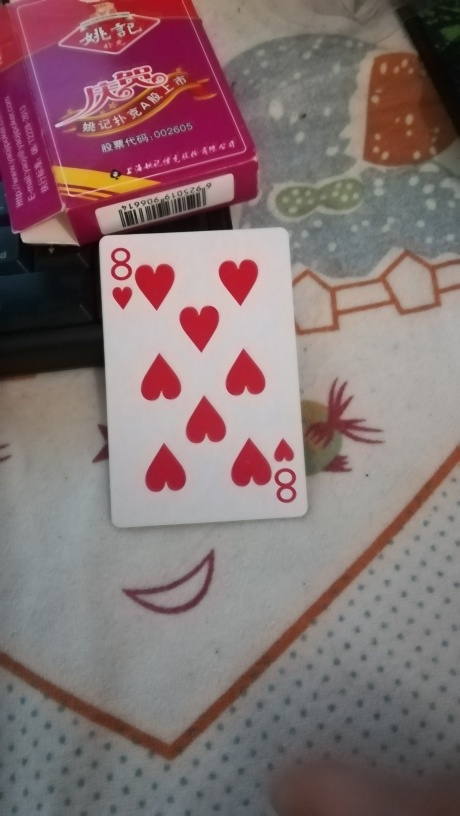hx 8: (99, 229, 309, 528)
